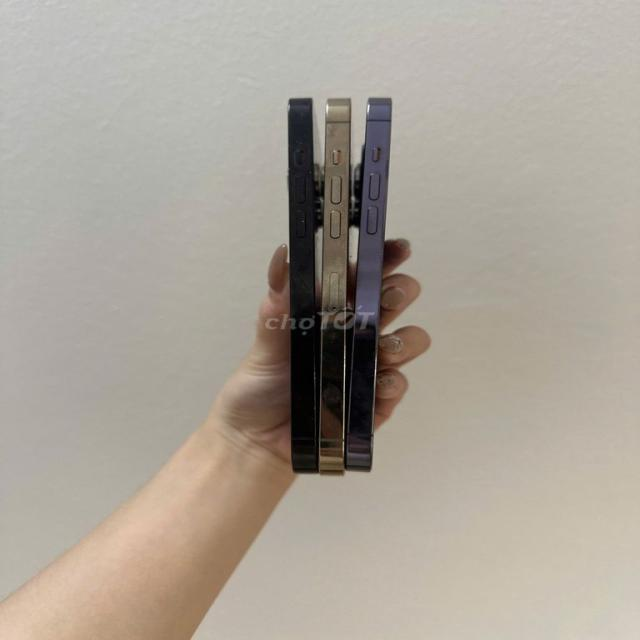gen_14: (320, 88, 356, 482)
